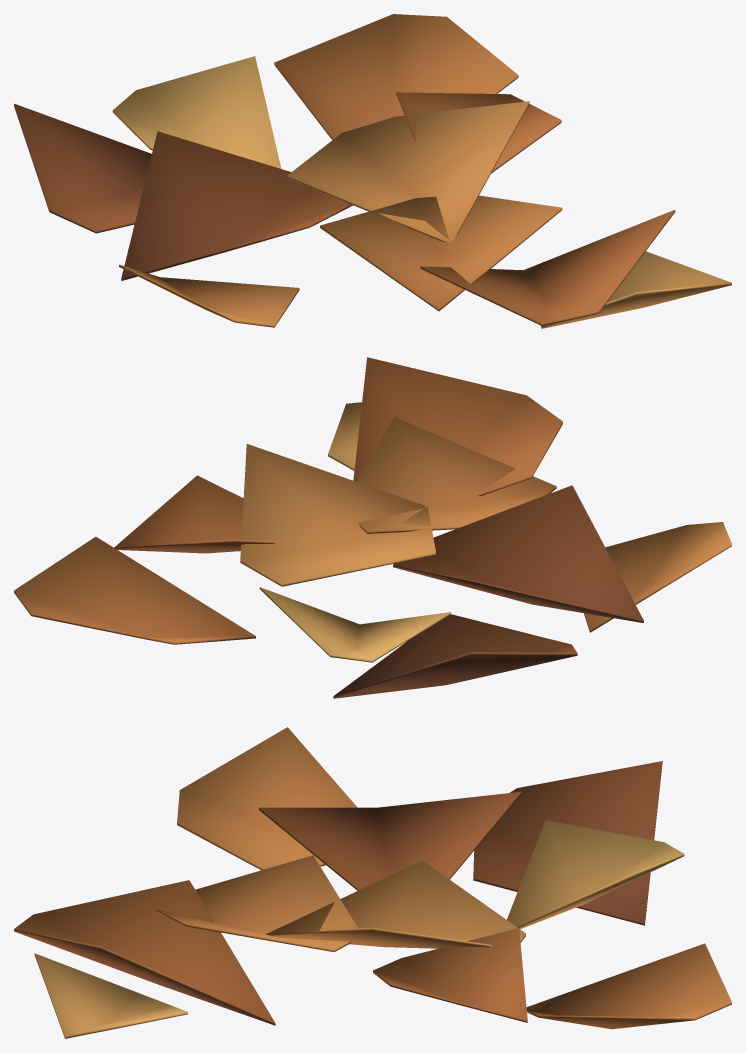
Rendered from fallenleaves.lod2.glb.
3 views of the same model, one above another, from view 1: azimuth 30°, elevation 25°; view 2: azimuth 150°, elevation 25°; view 3: azimuth 270°, elevation 25° (orthographic). The views are drawn at different scales.
Visible parts, largest first — view 1: fallenleaves_s1_lod2; view 2: fallenleaves_s1_lod2; view 3: fallenleaves_s1_lod2.
Boxes of the visible parts, x1,y1,x2,y2 form: fallenleaves_s1_lod2: [14, 14, 731, 328]; fallenleaves_s1_lod2: [14, 357, 731, 698]; fallenleaves_s1_lod2: [14, 727, 731, 1038].
Bounding box in the file's own units: 0.493 × 0.1097 × 0.5724.
